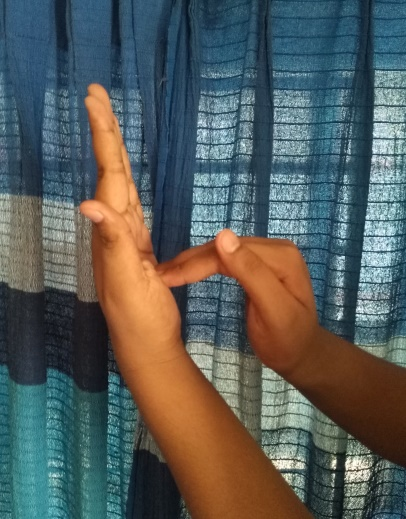ga: (75, 82, 335, 382)
